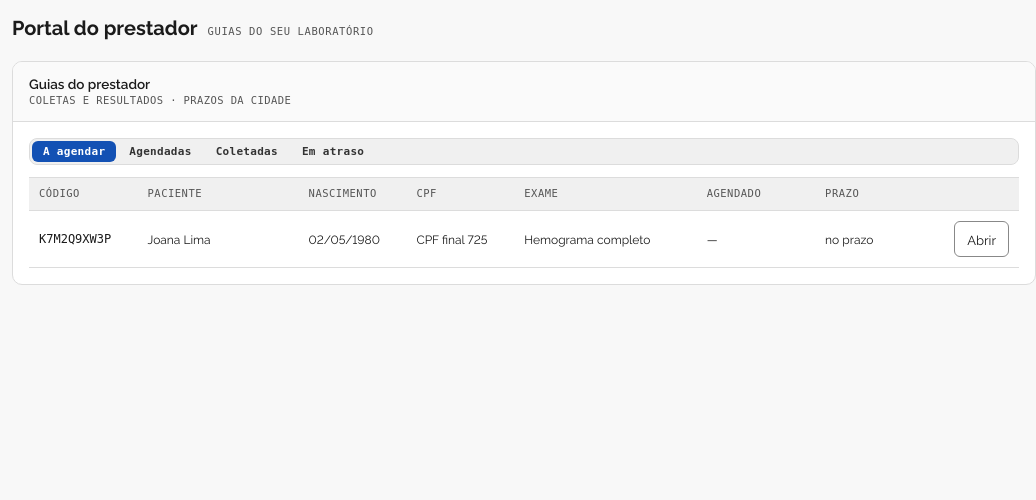
ProviderPortal › 409: fecha o formulário, explica e mostra a guia relida (sem ação velha)
The image size is (1036, 500).
Click the button with aria-label "Abrir guia K7M2Q9XW3P" at (982, 239), box left=954, top=221, right=1009, bottom=257
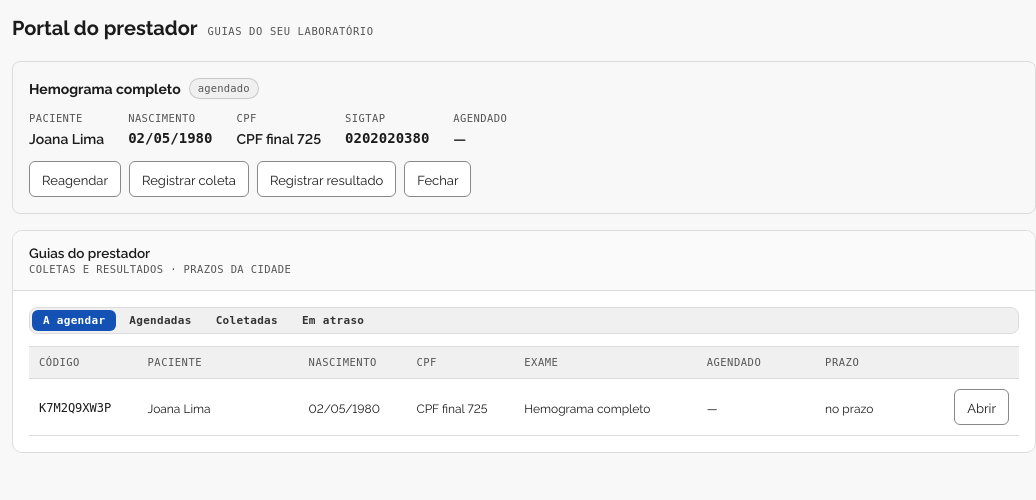
Click the button "Registrar coleta" at (189, 179), box left=129, top=161, right=249, bottom=197
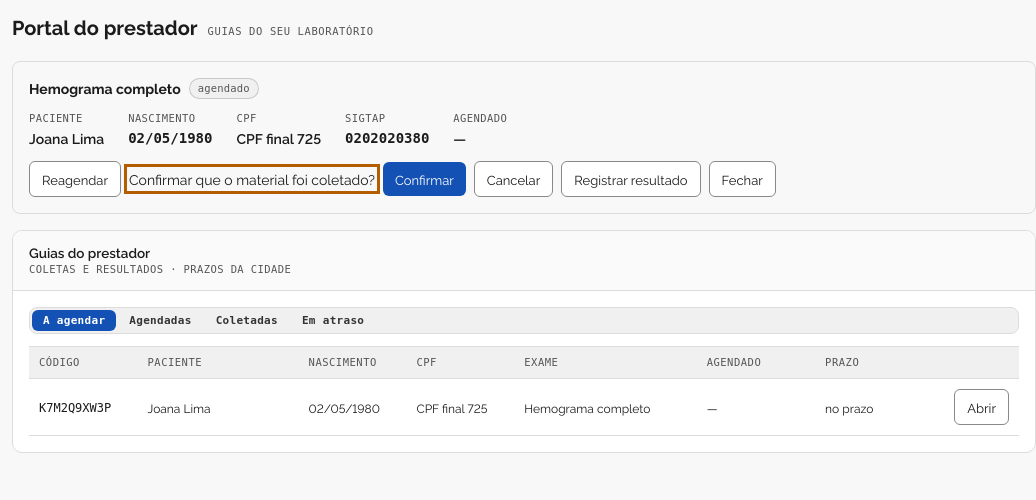
Click the button "Confirmar" at (424, 179), box left=383, top=162, right=466, bottom=196
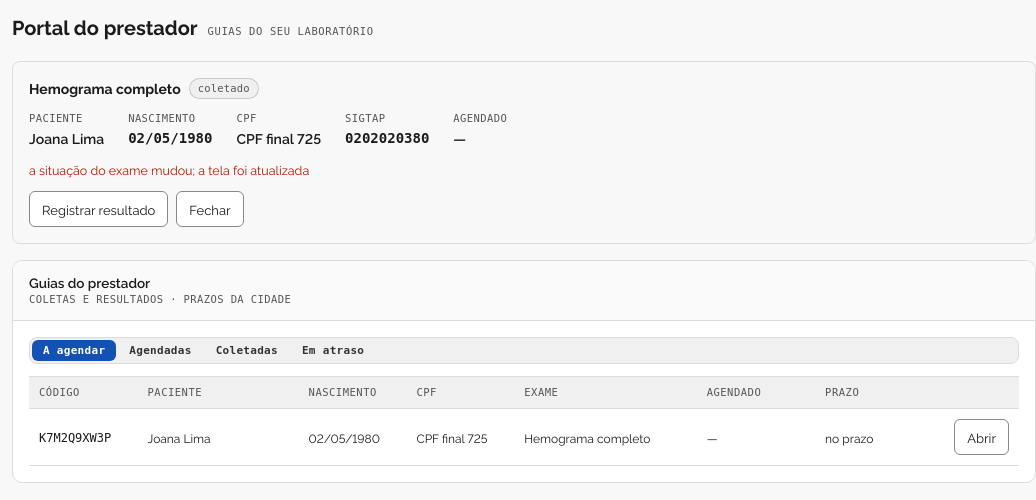
Expected: the button "Registrar resultado" is shown, left=29, top=191, right=168, bottom=227
Expected: the message reads "a situação do exame mudou; a tela foi atualizada", left=29, top=161, right=309, bottom=178
Expected: the text "coletado" is shown, left=189, top=78, right=259, bottom=99
